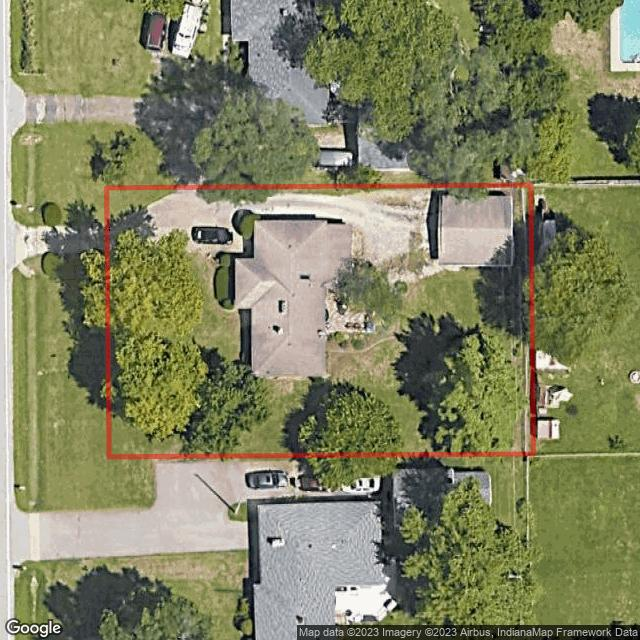Driveway: (108, 188, 445, 267)
Extra Driveway: (12, 212, 105, 271)
Extra Lawn: (12, 260, 28, 460), (12, 186, 27, 227)
Extra Sidewalk: (26, 254, 39, 459), (26, 187, 34, 227)
House: (235, 220, 352, 378)
Other: (437, 195, 513, 267), (325, 289, 375, 335)
